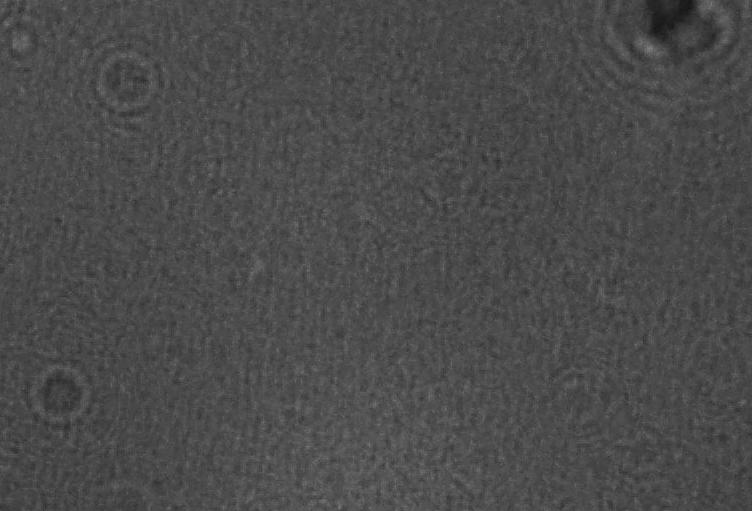bead: (69, 33, 186, 131), (15, 356, 104, 440)
